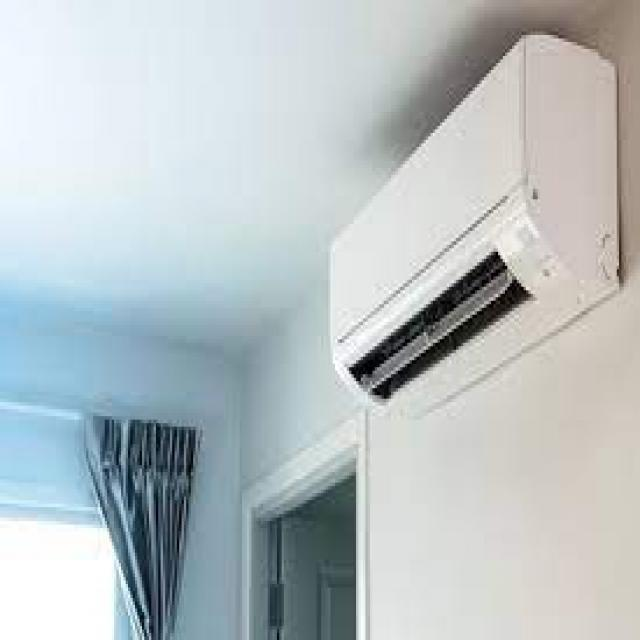AC: (328, 30, 617, 426)
